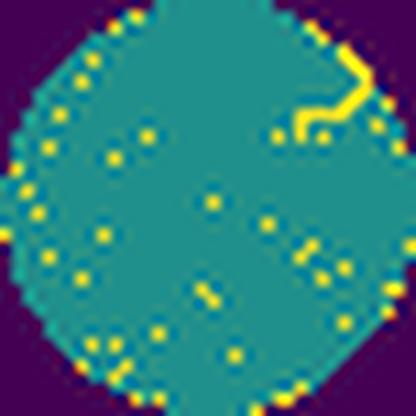Scratch: (292, 40, 377, 149)
